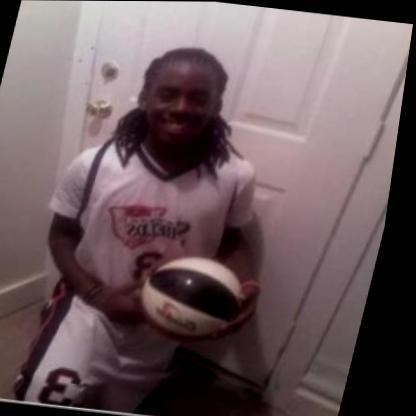basketball: (131, 244, 267, 351)
